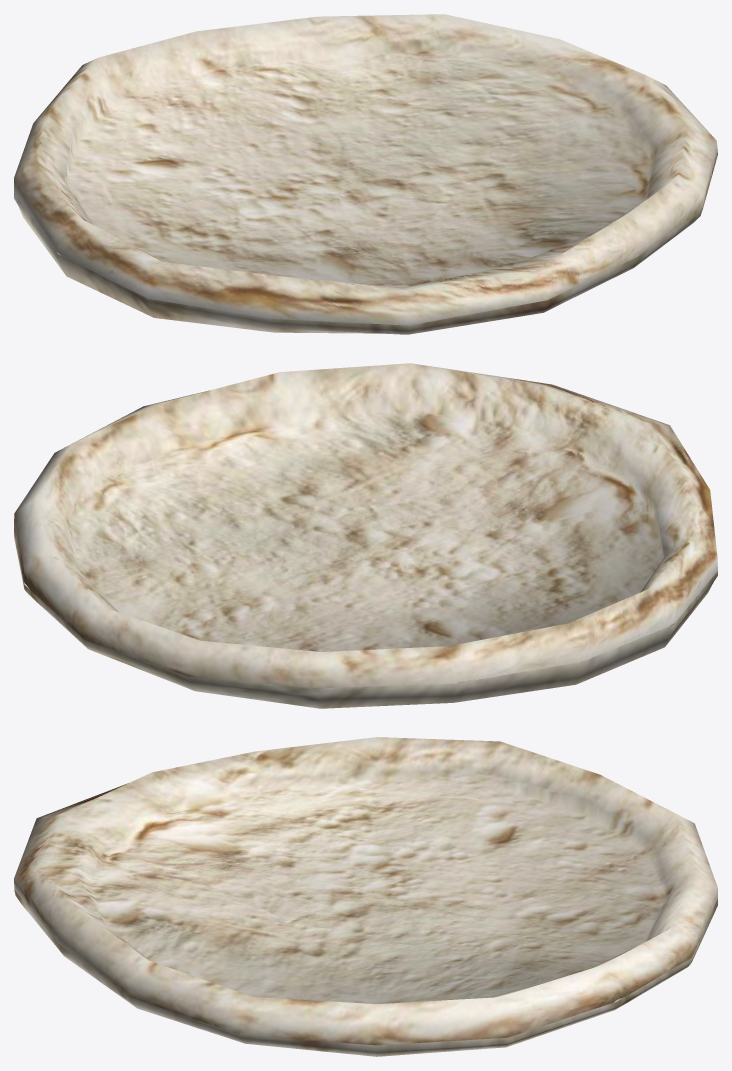
Rendered from pizza.fbx.
3 views of the same model, one above another, from view 1: azimuth 30°, elevation 25°; view 2: azimuth 150°, elevation 25°; view 3: azimuth 270°, elevation 25° (orthographic). The views are drawn at different scales.
Visible parts, largest first — view 1: Pizza; view 2: Pizza; view 3: Pizza.
Part boxes in pixels (x1,y1,x2,y2): Pizza: [14, 14, 717, 334]; Pizza: [14, 363, 717, 708]; Pizza: [14, 737, 717, 1056].
Size of the model in its own units: 115 by 12.7 by 118.
